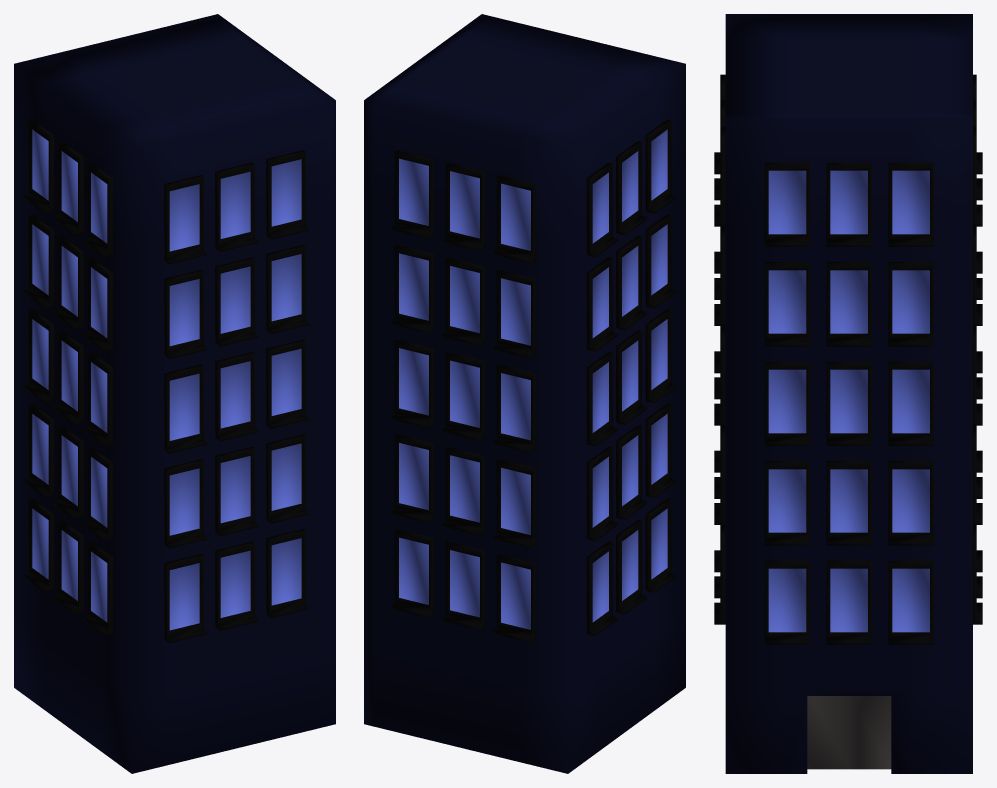
File: PredioJanelas1.fbx
3 renders of one model, left to right at view 1: azimuth 30°, elevation 25°; view 2: azimuth 150°, elevation 25°; view 3: azimuth 270°, elevation 25°, orthographic. The views are drawn at different scales.
Parts seen in each view (by area): view 1: Cube; view 2: Cube; view 3: Cube.
Boxes of the visible parts, left/top/right/bottom form: Cube: left=14, top=14, right=335, bottom=773; Cube: left=364, top=14, right=685, bottom=773; Cube: left=714, top=14, right=982, bottom=773.
Bounding box in the file's own units: 738 × 1991 × 738.
